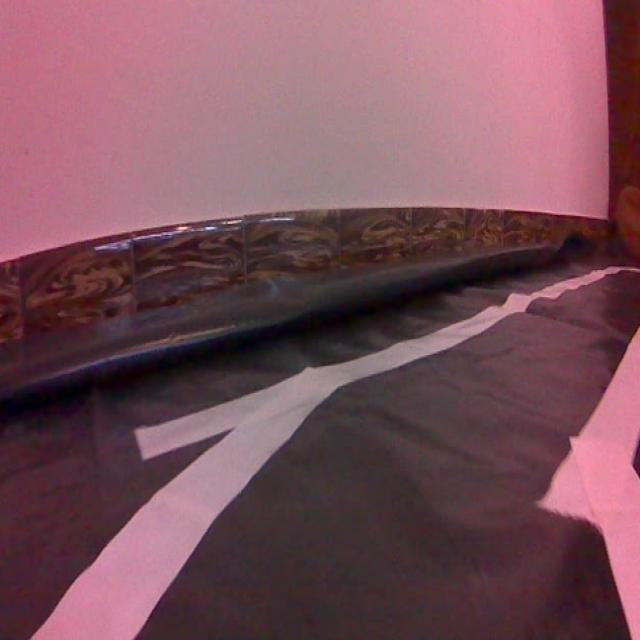LineaCarril: (33, 269, 622, 640), (542, 327, 640, 638)
